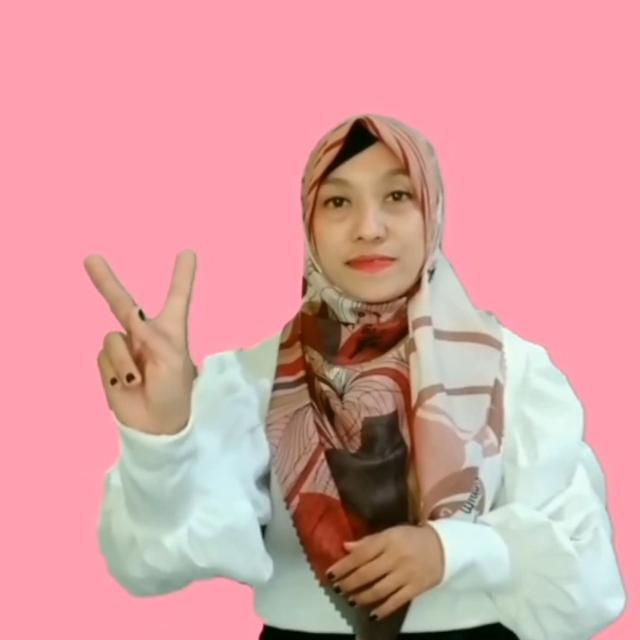K: (82, 250, 200, 426)
